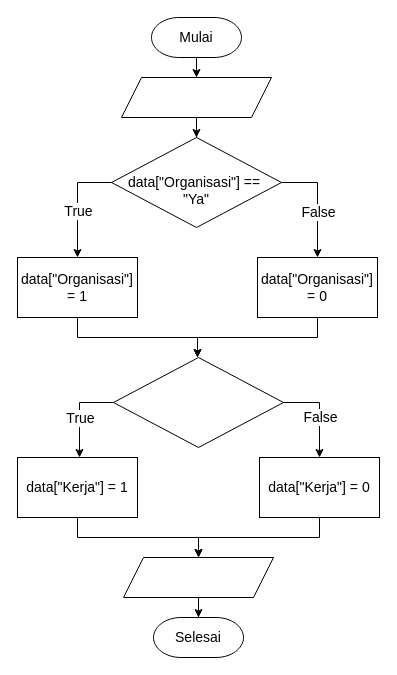
The diagram is 397 pixels wide and 675 high, and some of its shapes have lost their labels. The centre of each missing label's shape, as x and y in pixels:
data["Kerja"] == "Ya": (198,402)
Encoded Data: (198,577)
Reducted data: (196,97)
